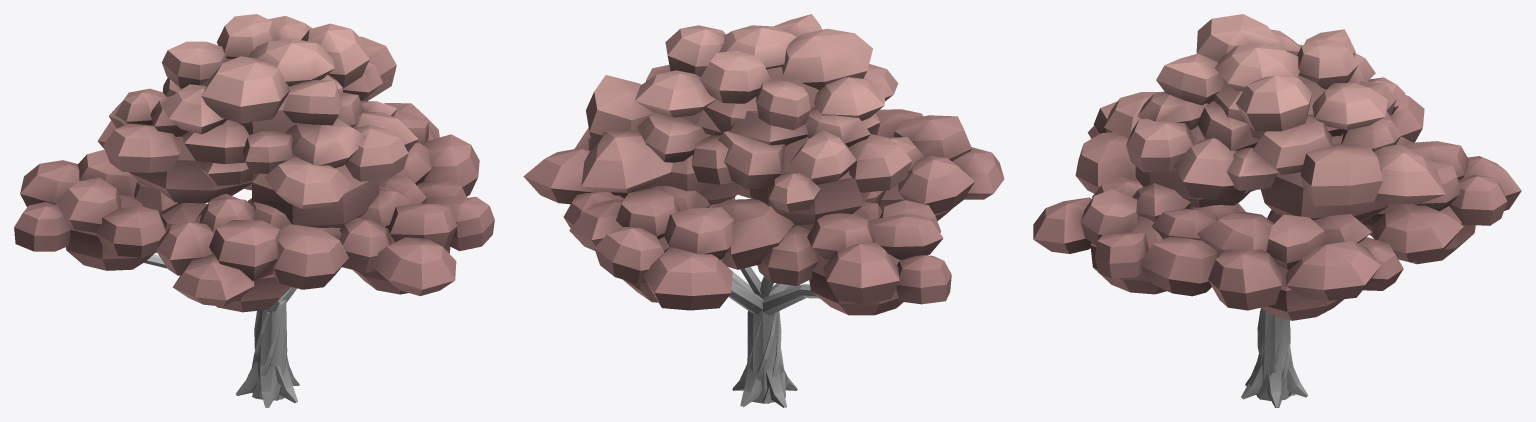
File: chestnut_tree_a.glb
3 views of the same model, side by side, from view 1: azimuth 30°, elevation 25°; view 2: azimuth 150°, elevation 25°; view 3: azimuth 270°, elevation 25° (orthographic).
Visible parts, largest first — view 1: Chestnut_Leaves, Chestnut_Bark; view 2: Chestnut_Leaves, Chestnut_Bark; view 3: Chestnut_Leaves, Chestnut_Bark.
Boxes of the visible parts, x1,y1,x2,y2 form: Chestnut_Leaves: [14, 14, 494, 312]; Chestnut_Bark: [144, 254, 299, 407]; Chestnut_Leaves: [523, 14, 1004, 315]; Chestnut_Bark: [728, 267, 819, 407]; Chestnut_Leaves: [1033, 14, 1521, 320]; Chestnut_Bark: [1241, 308, 1307, 407].
Bounding box in the file's own units: 13.02 × 10.66 × 13.42.
